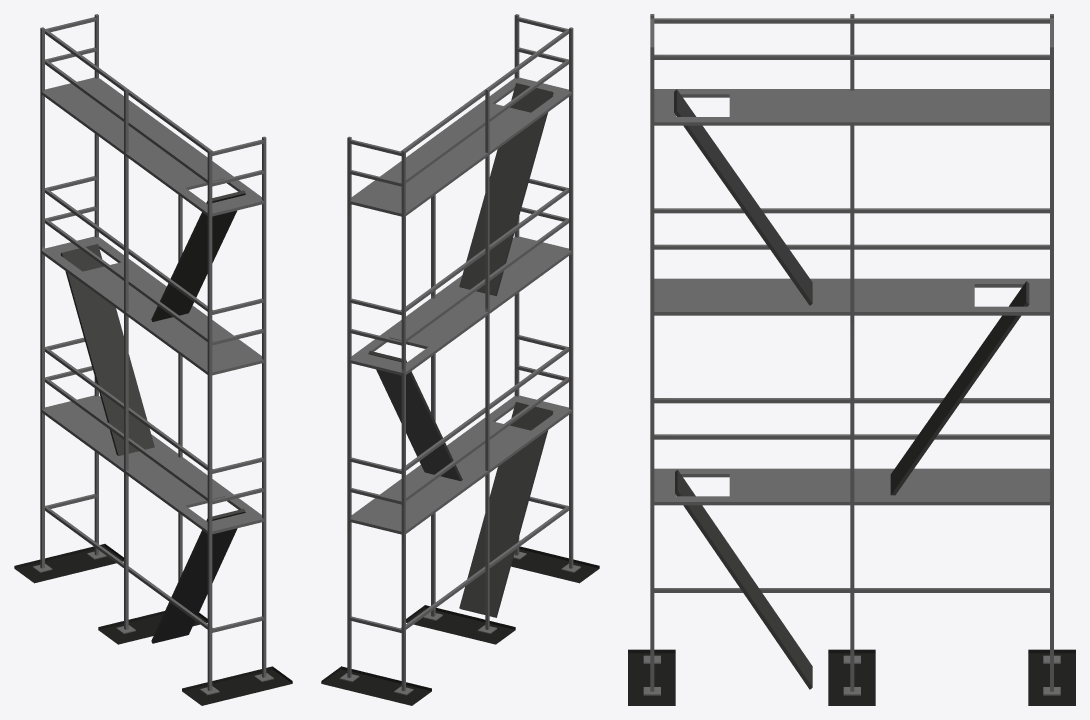
File: rusztowanie.fbx
The picture shows the model from 3 angles, left to right: view 1: azimuth 30°, elevation 25°; view 2: azimuth 150°, elevation 25°; view 3: azimuth 270°, elevation 25°; orthographic projection. The views are drawn at different scales.
Parts seen in each view (by area): view 1: Cube.025; view 2: Cube.025; view 3: Cube.025.
Boxes of the visible parts, x1,y1,x2,y2 form: Cube.025: (14, 14, 292, 705); Cube.025: (321, 14, 599, 705); Cube.025: (628, 14, 1075, 705).
Bounding box in the file's own units: 983 × 275 × 1573.
